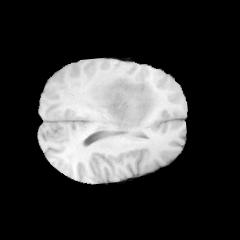glioma: (95, 76, 161, 130)
